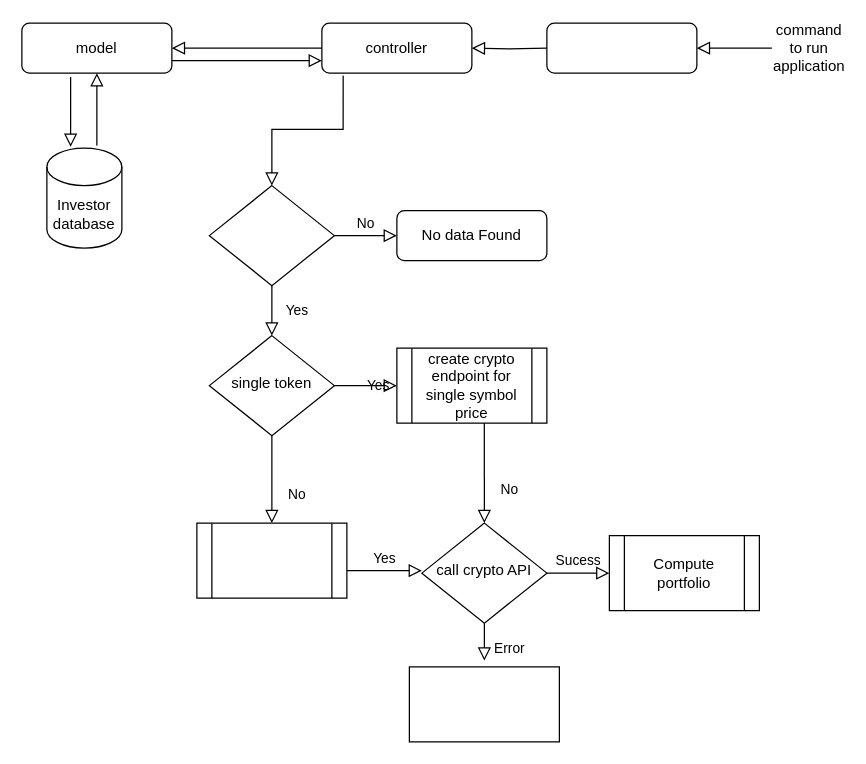
Some shapes in this 866 by 764 pixel diagram are drawn without their labels. The centre of each missing label's shape, as x and y in pixels:
create crypto endpoint for multi symbol price: point 271,560
data returned: point 271,235
entry point main.js: point 621,47
Throw error: point 483,704
